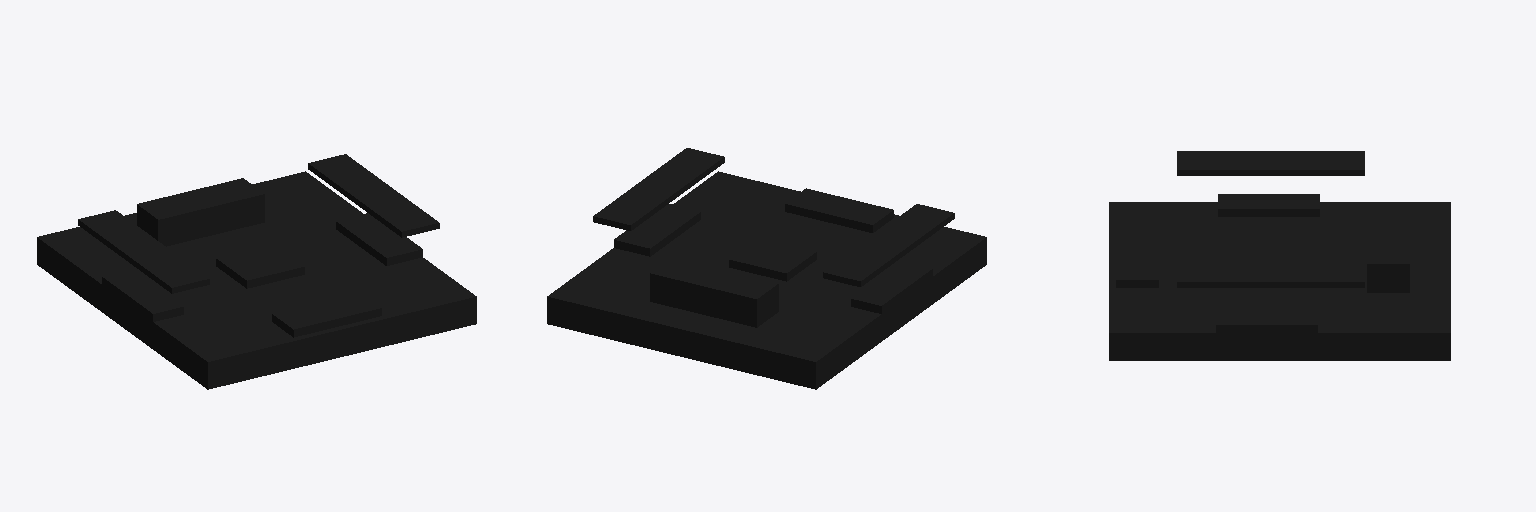
The model's file is optimizedGEO.obj.
3 renders of one model, left to right at view 1: azimuth 30°, elevation 25°; view 2: azimuth 150°, elevation 25°; view 3: azimuth 270°, elevation 25°, orthographic.
Parts seen in each view (by area): view 1: Cube_(24).001; view 2: Cube_(24).001; view 3: Cube_(24).001.
Part boxes in pixels (left/top/right/bottom): Cube_(24).001: left=37, top=154, right=476, bottom=389; Cube_(24).001: left=547, top=148, right=986, bottom=389; Cube_(24).001: left=1109, top=151, right=1450, bottom=360.
Bounding box in the file's own units: 92.85 × 25.33 × 102.